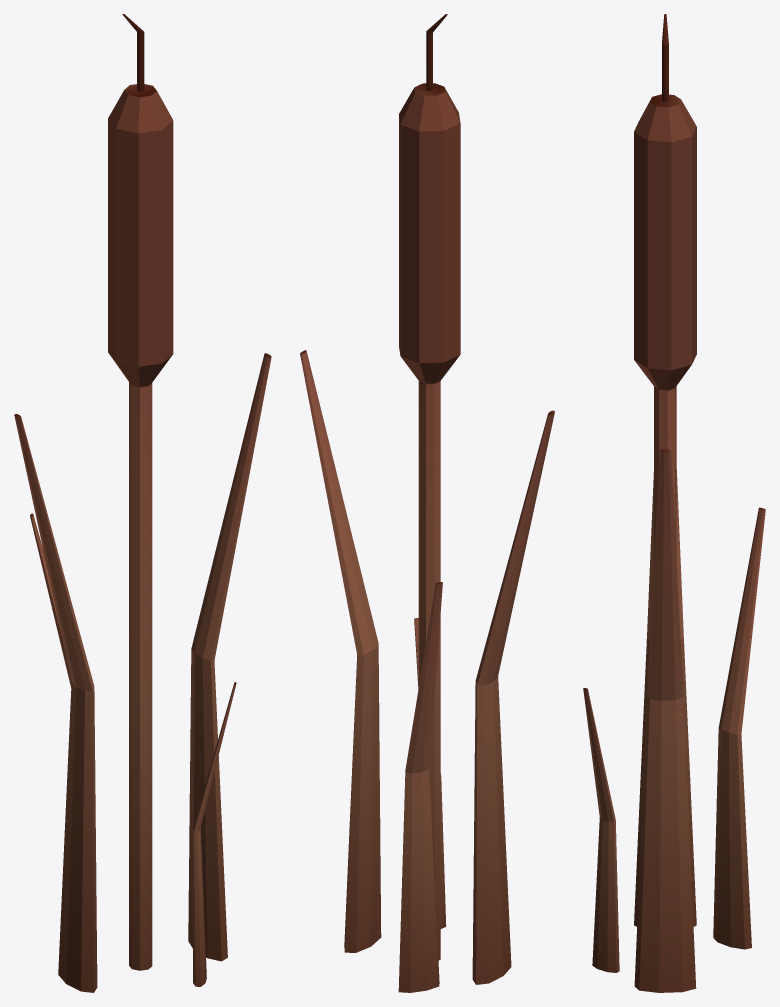
The model's file is TyphaTC.fbx.
3 renders of one model, left to right at view 1: azimuth 30°, elevation 25°; view 2: azimuth 150°, elevation 25°; view 3: azimuth 270°, elevation 25°, orthographic. The views are drawn at different scales.
Parts seen in each view (by area): view 1: Typha; view 2: Typha; view 3: Typha.
Part boxes in pixels (x1,y1,x2,y2): Typha: (14,14,271,992); Typha: (300,14,554,992); Typha: (583,14,765,992).
Size of the model in its own units: 0.912 by 3.27 by 0.5812.
